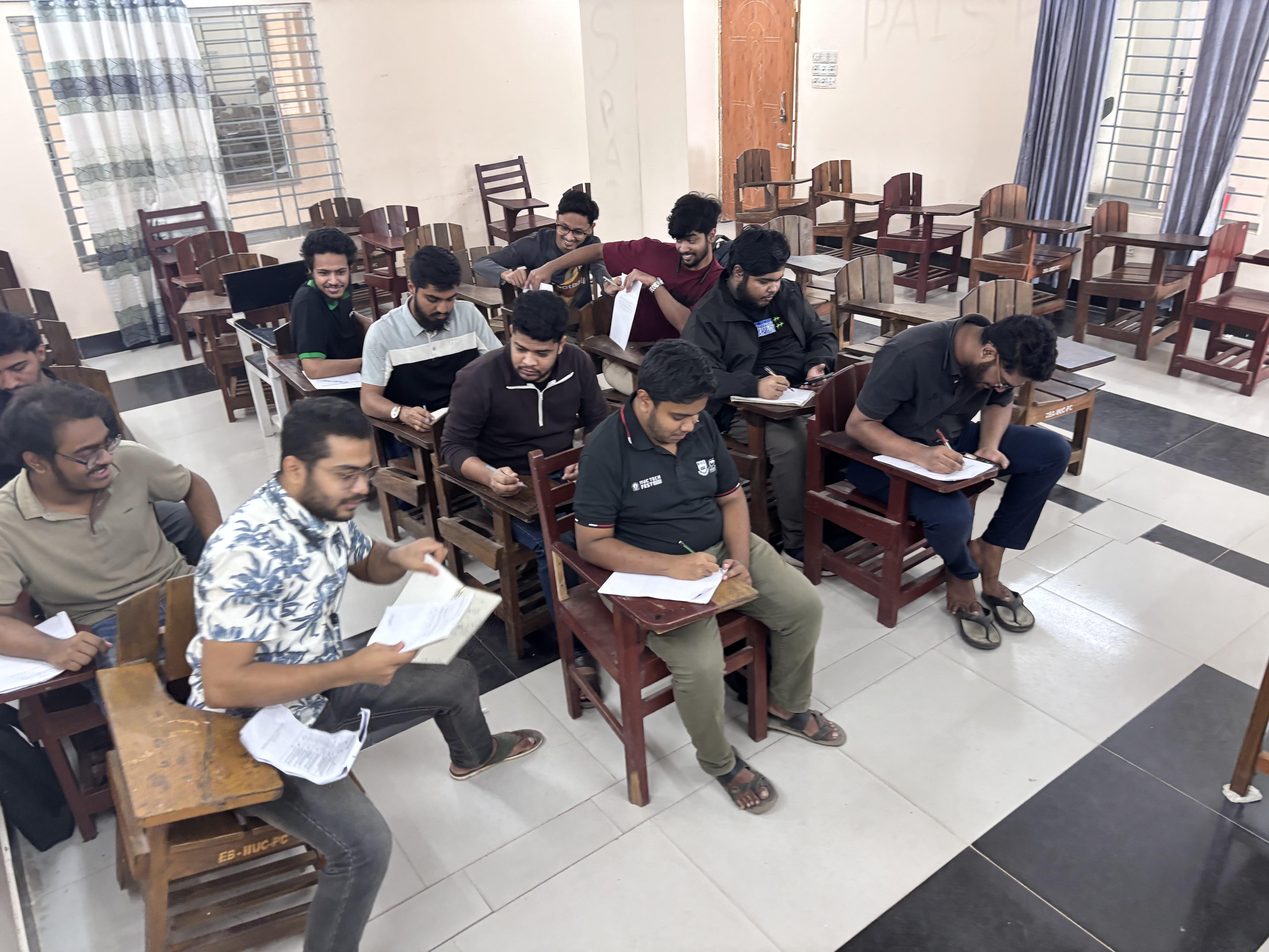copying: (450, 282, 591, 519)
exchanging_sheets: (221, 382, 500, 817), (481, 184, 724, 329)
no_cheating: (587, 334, 768, 661), (374, 243, 487, 450), (282, 221, 390, 398)
side_talking: (2, 377, 193, 676)
using_phone: (859, 291, 1065, 544), (695, 232, 846, 442)
